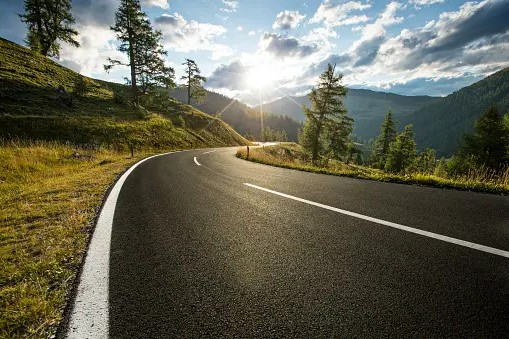rightTrun: (146, 129, 252, 224)
